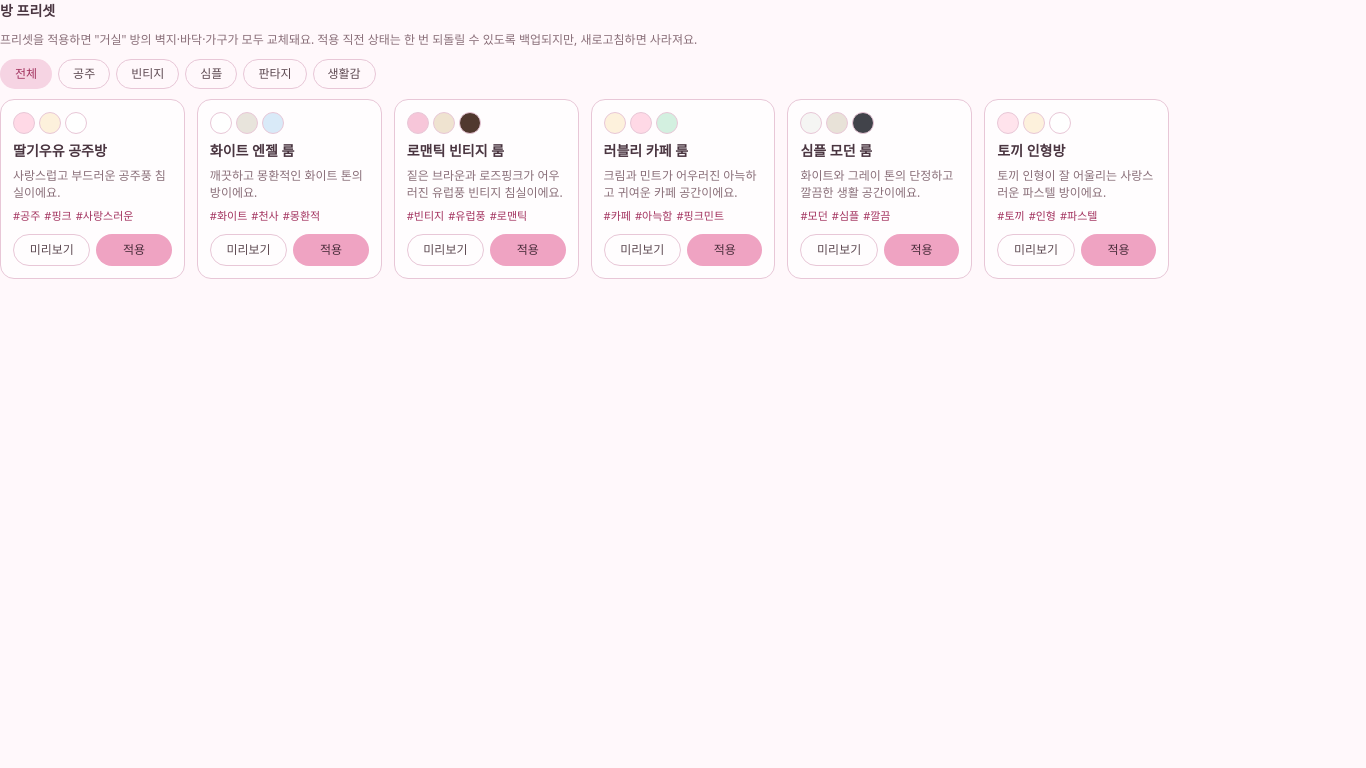
Test: decorPresetApply: 적용/미리보기/백업/되돌리기 › 미리보기: 실제 데이터와 완전히 분리 › 미리보기를 열어도(그리고 닫아도) 실제 방 데이터는 바뀌지 않는다
What coordinates should you click on to do the following:
click the button "미리보기" below "사랑스럽고 부드러운 공주풍 침실이에요."
I would click on:
 (52, 250)
Its box is [13,234,90,266].
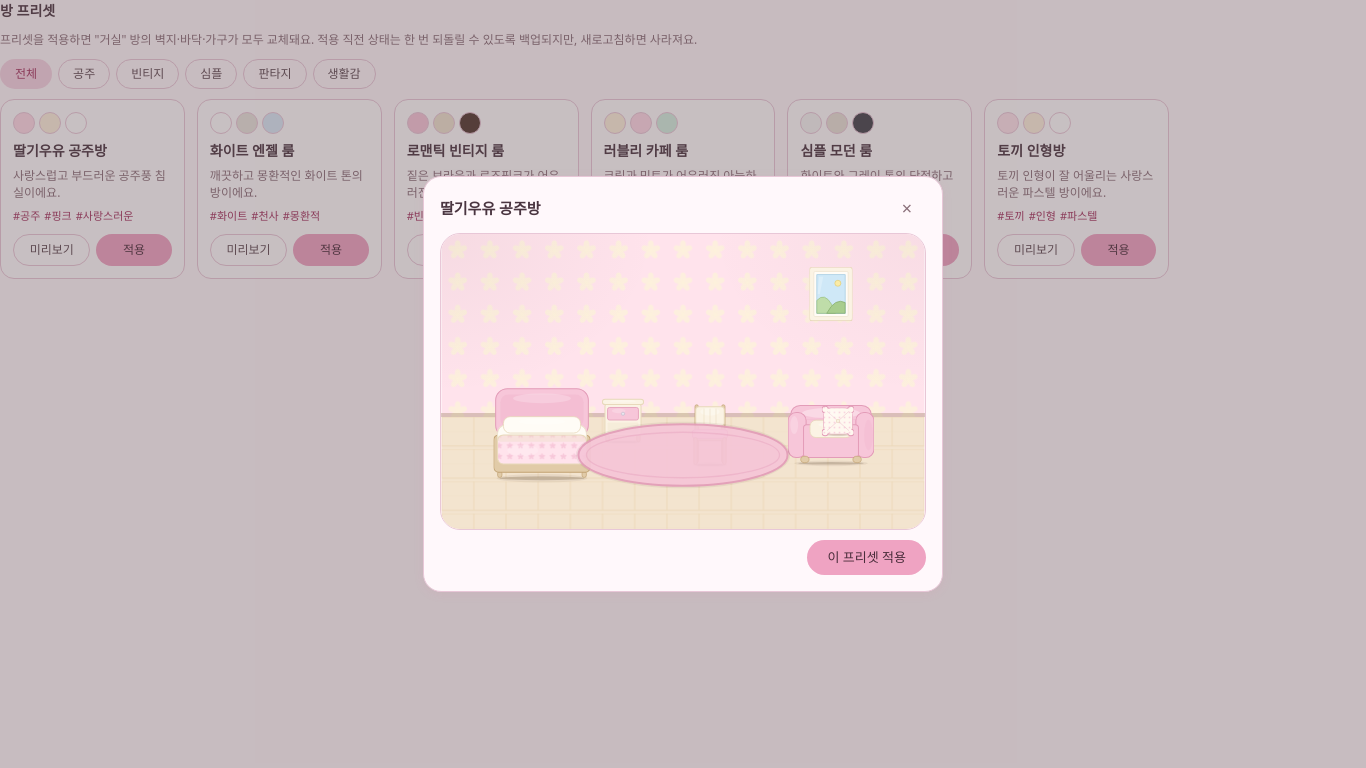
expect the dialog is shown: met
What coordinates should you click on to do the following:
click the button named "미리보기 닫기"
I would click on:
 (907, 208)
Its box is [888,193,926,223].
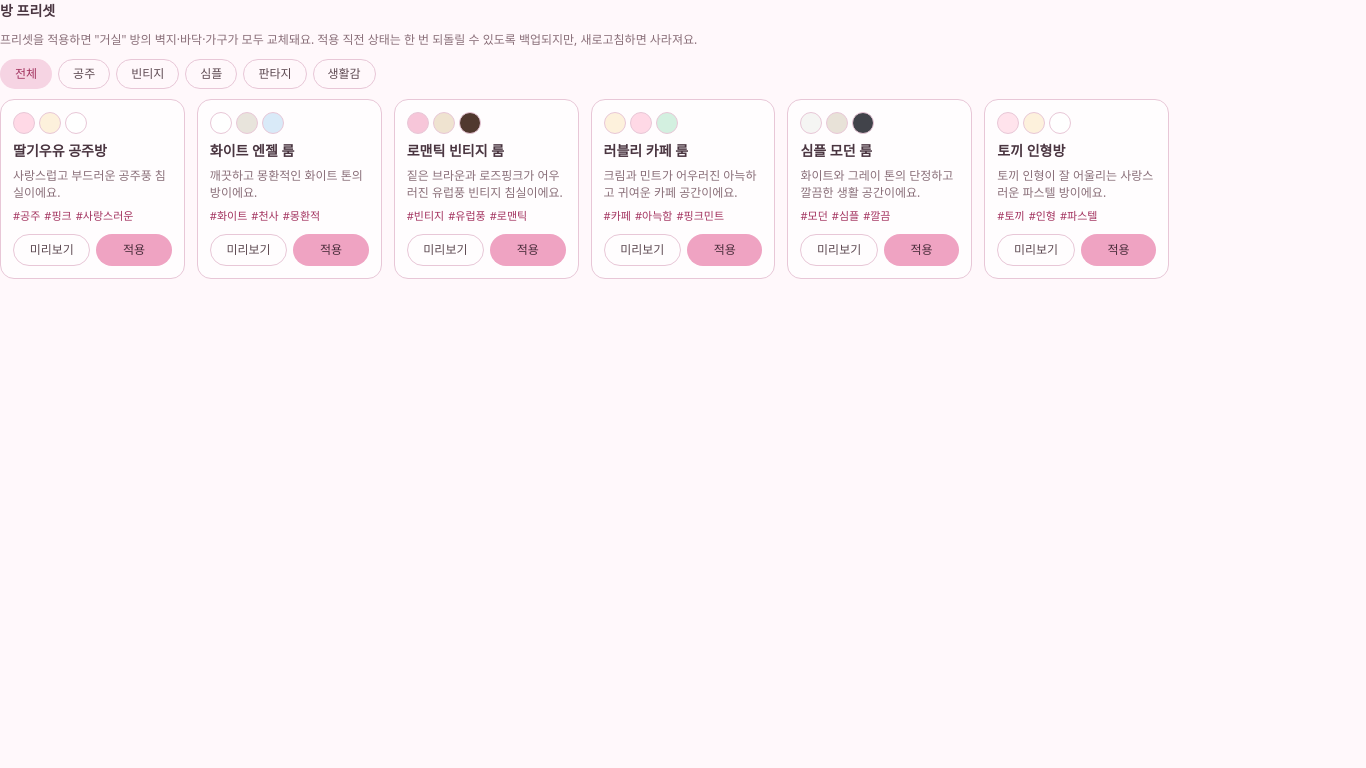
expect the dialog is gone: met
